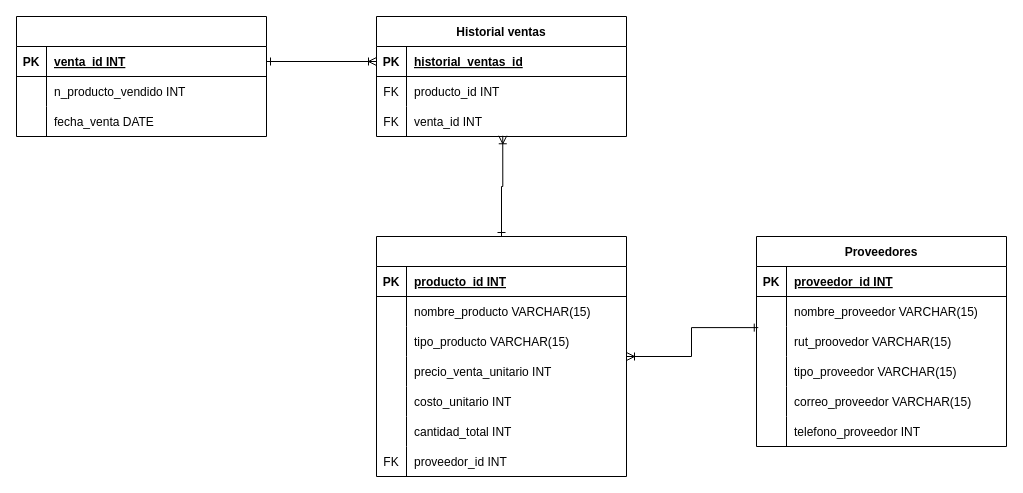
Image size: 1023x493. Some labels were removed from this diagram. Here are the shapes that lost their labels. From the top down, the box of each, then its label:
(16, 16, 266, 136): Ventas
(376, 236, 626, 476): Productos
